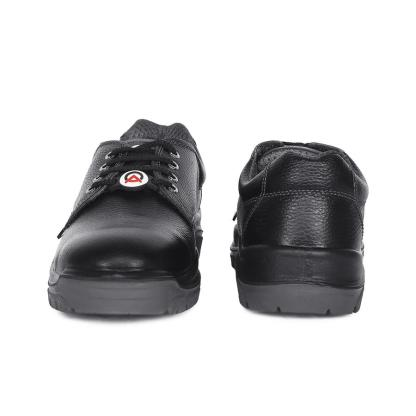bota: (42, 115, 210, 321), (226, 132, 372, 321)
